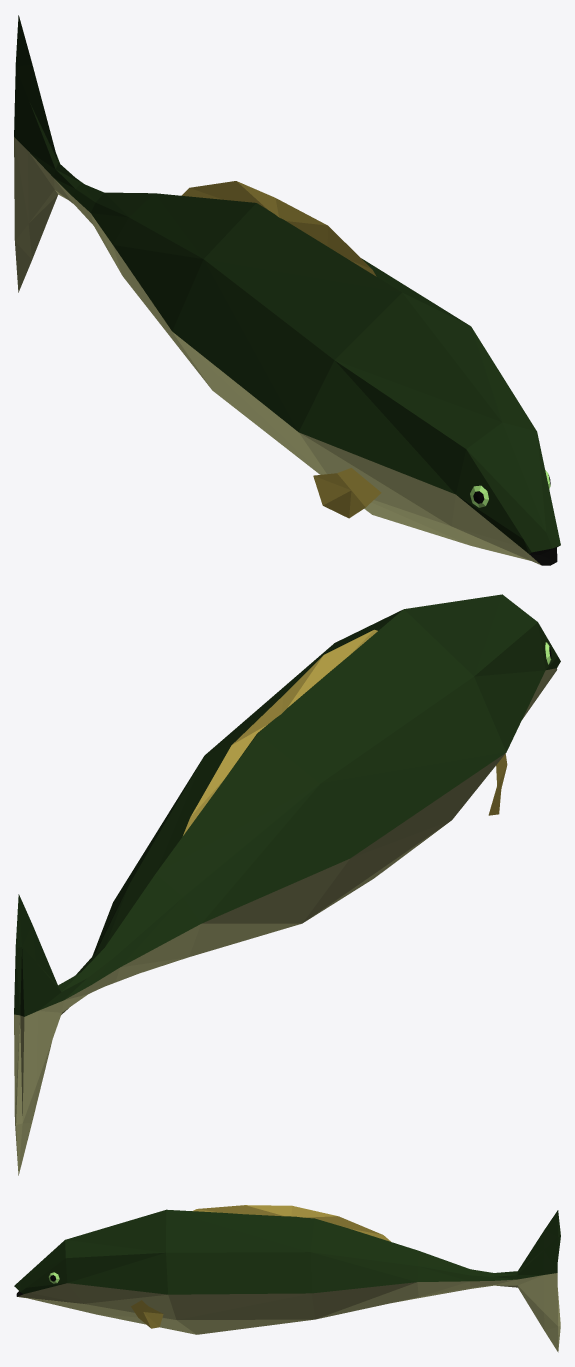
File: Minnow_000001.obj
3 views of the same model, one above another, from view 1: azimuth 30°, elevation 25°; view 2: azimuth 150°, elevation 25°; view 3: azimuth 270°, elevation 25° (orthographic). The views are drawn at different scales.
Size of the model in its own units: 0.676 by 0.9146 by 3.05.
